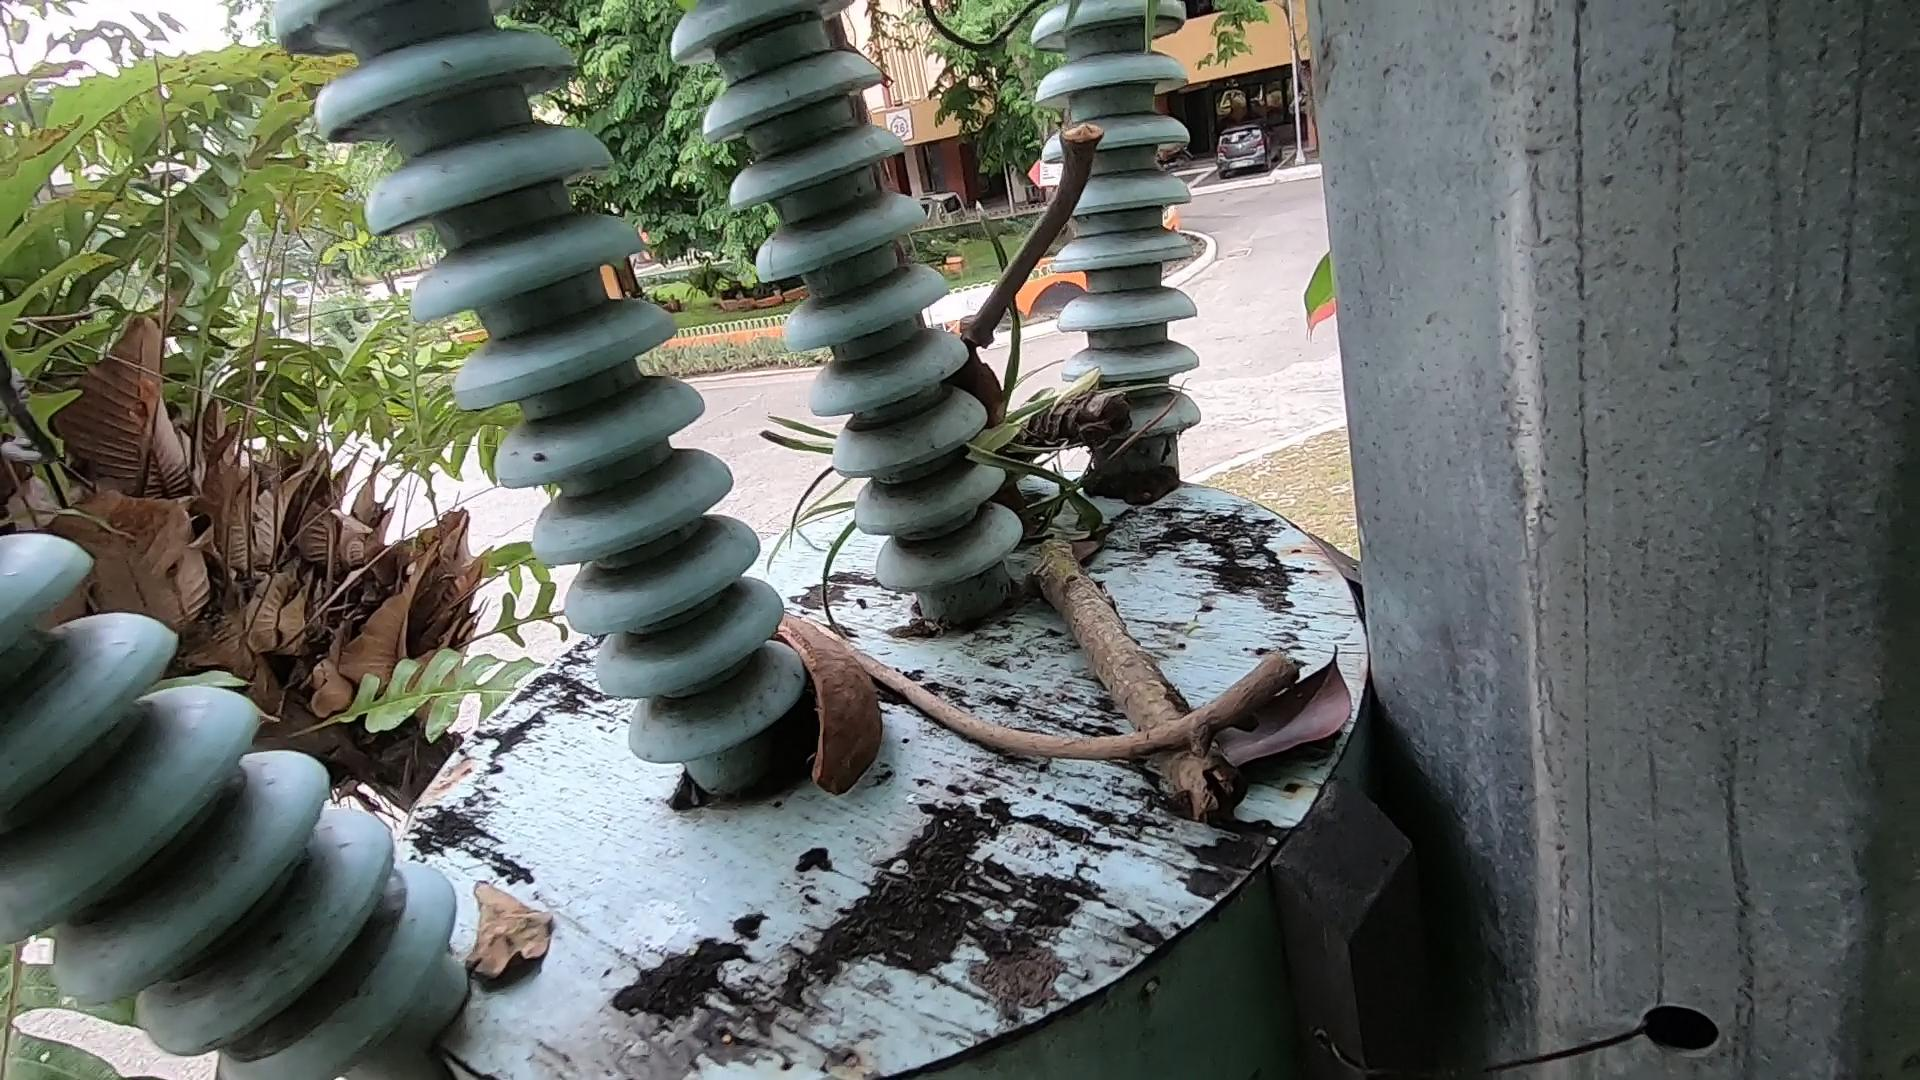branch with leaves: (968, 295, 1304, 862)
leaf: (1255, 582, 1400, 807), (456, 851, 582, 1007)
mahogany fruit: (731, 574, 971, 824), (949, 328, 1093, 618)
tree branch: (808, 613, 1331, 800), (947, 98, 1143, 384)
